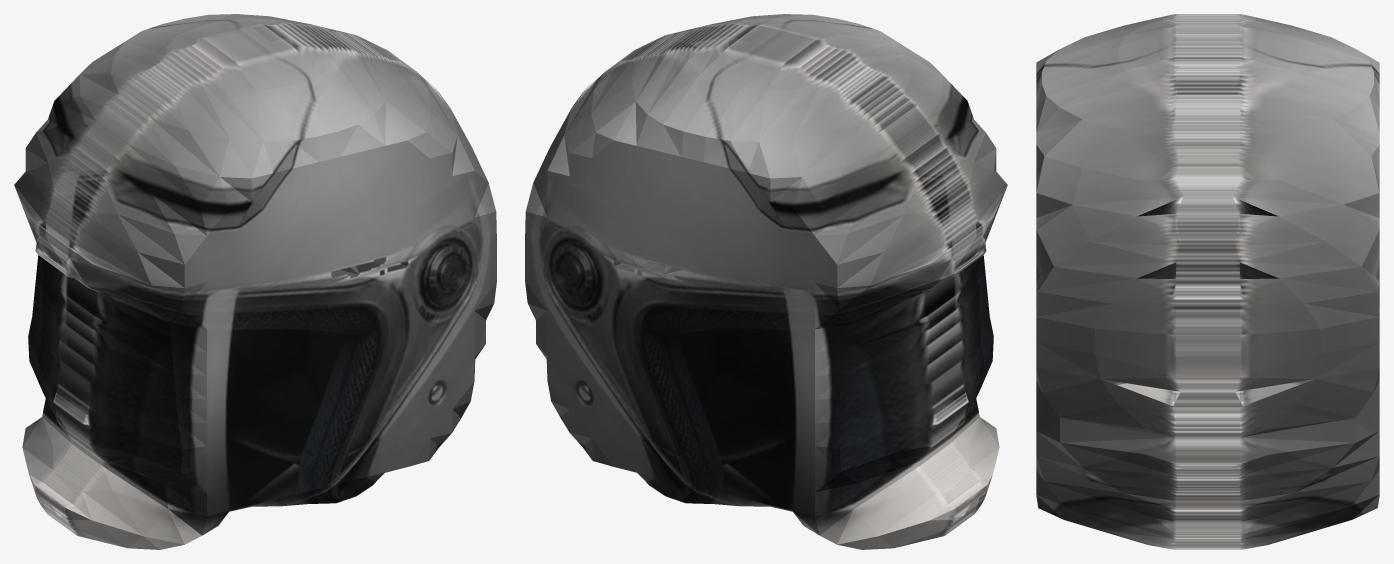
File: givi-apex-open-face-helmet-067.glb
3 views of the same model, side by side, from view 1: azimuth 30°, elevation 25°; view 2: azimuth 150°, elevation 25°; view 3: azimuth 270°, elevation 25° (orthographic). The views are drawn at different scales.
Visible parts, largest first — view 1: world; view 2: world; view 3: world.
Part boxes in pixels (bbox=[...]): world: bbox=[14, 14, 496, 549]; world: bbox=[525, 14, 1007, 549]; world: bbox=[1036, 14, 1379, 549].
Bounding box in the file's own units: 0.9414 × 1 × 0.64.
1 material, 1 textured.
